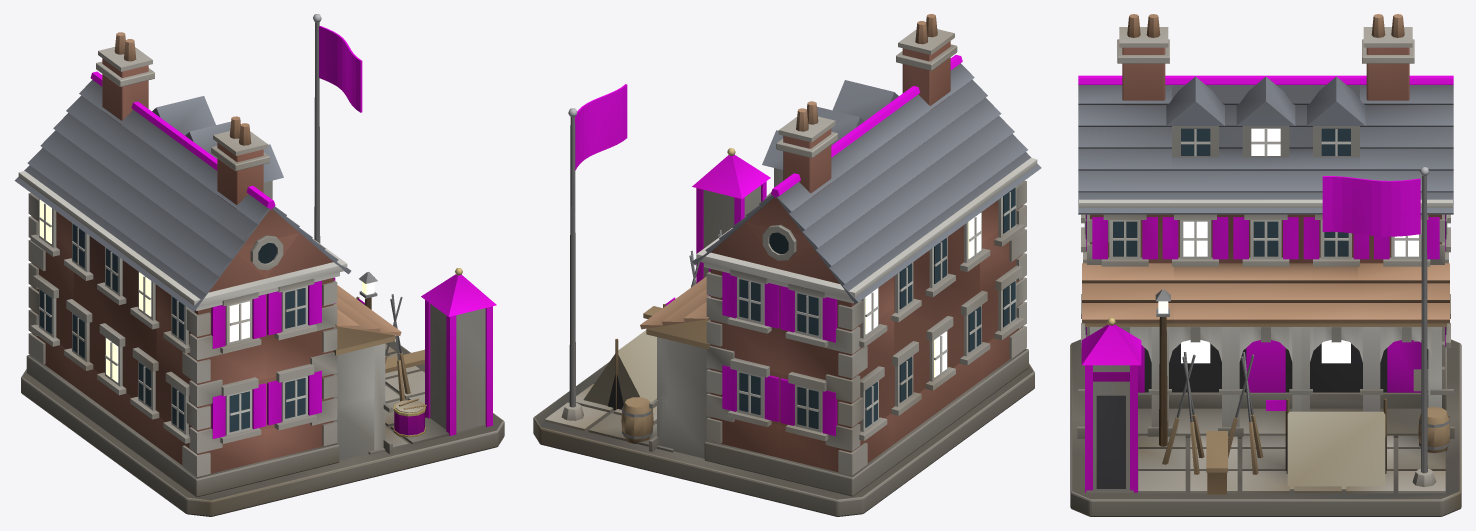
File: barracks_gunpowder.glb
3 renders of one model, left to right at view 1: azimuth 30°, elevation 25°; view 2: azimuth 150°, elevation 25°; view 3: azimuth 270°, elevation 25°, orthographic. The views are drawn at different scales.
Parts seen in each view (by area): view 1: Body; view 2: Body; view 3: Body.
Boxes of the visible parts, left/top/right/bottom form: Body: left=14, top=14, right=504, bottom=516; Body: left=533, top=14, right=1041, bottom=516; Body: left=1070, top=14, right=1461, bottom=516.
Size of the model in its own units: 4.01 by 4.26 by 4.
1 material, 1 textured.
